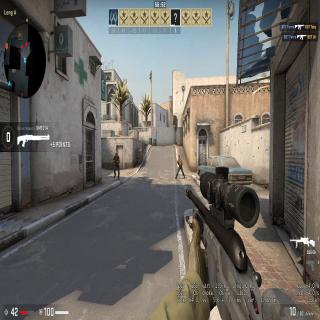T-Body: (113, 150, 121, 182), (176, 154, 183, 181)
T-Head: (178, 154, 180, 160), (116, 150, 118, 156)
